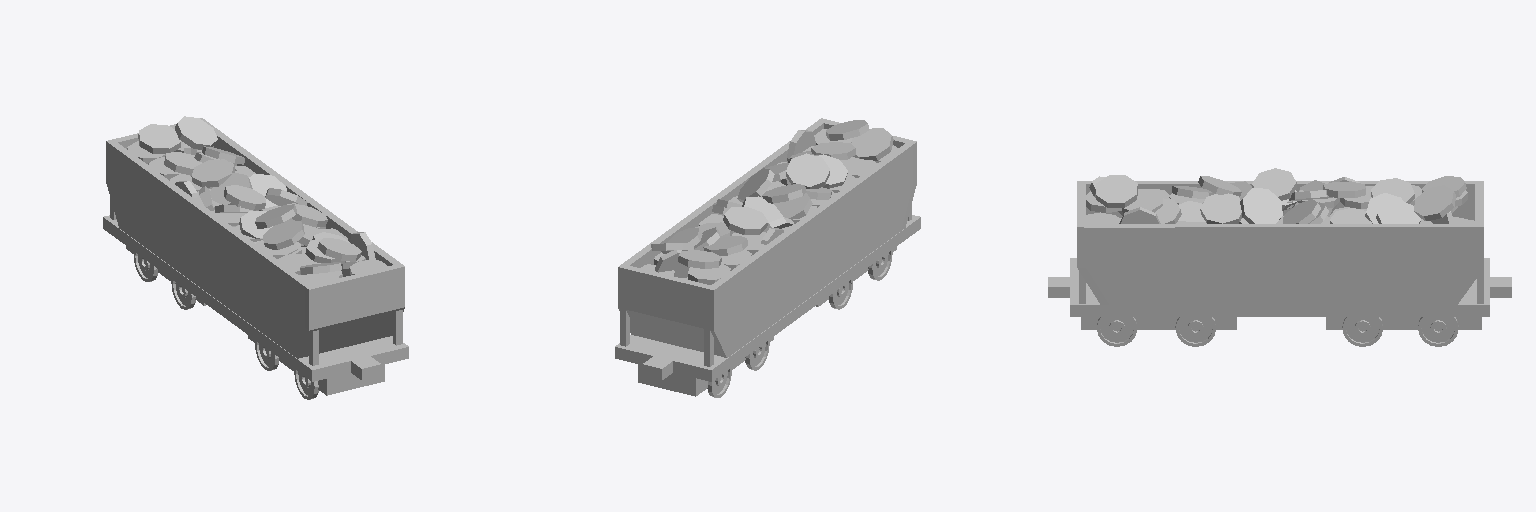
Rendered from cabin One_0605.obj.
3 renders of one model, left to right at view 1: azimuth 30°, elevation 25°; view 2: azimuth 150°, elevation 25°; view 3: azimuth 270°, elevation 25°, orthographic.
Visible parts, largest first — view 1: cabin_Cube.021_Material.005, cabin_set_Cube.009_Material.007, wood.003_Circle.076_Material.003, cabin_set1_Cube.013_Material.007, wood.003_Circle.076_Material.002, wood.015_Circle.049_Material.003, wood.033_Circle.067_Material.003; view 2: cabin_Cube.021_Material.005, cabin_set_Cube.009_Material.007, wood.003_Circle.076_Material.003, cabin_set2_Cube.016_Material.007, wood.038_Circle.072_Material.003, wood.003_Circle.076_Material.002, wood.014_Circle.046_Material.003; view 3: cabin_Cube.021_Material.005, cabin_set_Cube.009_Material.007, Circle_Circle.079_Material.007, Circle.001_Circle.080_Material.007, Circle.002_Circle.081_Material.007, Circle.003_Circle.082_Material.007, cabin_set1_Cube.013_Material.007, cabin_set2_Cube.016_Material.007, wood.003_Circle.076_Material.002, wood.037_Circle.071_Material.003, wood.030_Circle.064_Material.003, wood.032_Circle.066_Material.003 (+4 smaller).
Part boxes in pixels (left/top/right/bottom): cabin_Cube.021_Material.005: left=106, top=118, right=404, bottom=358; cabin_set_Cube.009_Material.007: left=103, top=215, right=408, bottom=381; wood.003_Circle.076_Material.003: left=131, top=143, right=335, bottom=284; cabin_set1_Cube.013_Material.007: left=248, top=335, right=384, bottom=395; wood.003_Circle.076_Material.002: left=127, top=141, right=338, bottom=278; wood.015_Circle.049_Material.003: left=143, top=126, right=177, bottom=145; wood.033_Circle.067_Material.003: left=181, top=119, right=214, bottom=142; cabin_Cube.021_Material.005: left=618, top=118, right=916, bottom=357; cabin_set_Cube.009_Material.007: left=615, top=215, right=920, bottom=381; wood.003_Circle.076_Material.003: left=691, top=147, right=896, bottom=277; cabin_set2_Cube.016_Material.007: left=638, top=337, right=773, bottom=396; wood.038_Circle.072_Material.003: left=790, top=156, right=826, bottom=183; wood.003_Circle.076_Material.002: left=688, top=145, right=897, bottom=284; wood.014_Circle.046_Material.003: left=854, top=130, right=887, bottom=154; cabin_Cube.021_Material.005: left=1077, top=181, right=1483, bottom=304; cabin_set_Cube.009_Material.007: left=1048, top=258, right=1511, bottom=316; Circle_Circle.079_Material.007: left=1418, top=317, right=1458, bottom=346; Circle.001_Circle.080_Material.007: left=1342, top=317, right=1382, bottom=346; Circle.002_Circle.081_Material.007: left=1175, top=317, right=1215, bottom=346; Circle.003_Circle.082_Material.007: left=1097, top=317, right=1136, bottom=346; cabin_set1_Cube.013_Material.007: left=1081, top=317, right=1236, bottom=329; cabin_set2_Cube.016_Material.007: left=1326, top=317, right=1481, bottom=329; wood.003_Circle.076_Material.002: left=1086, top=185, right=1467, bottom=212; wood.037_Circle.071_Material.003: left=1246, top=191, right=1279, bottom=222; wood.030_Circle.064_Material.003: left=1204, top=195, right=1240, bottom=220; wood.032_Circle.066_Material.003: left=1099, top=178, right=1133, bottom=199.
Size of the model in its own units: 1.92 by 2.84 by 7.95.